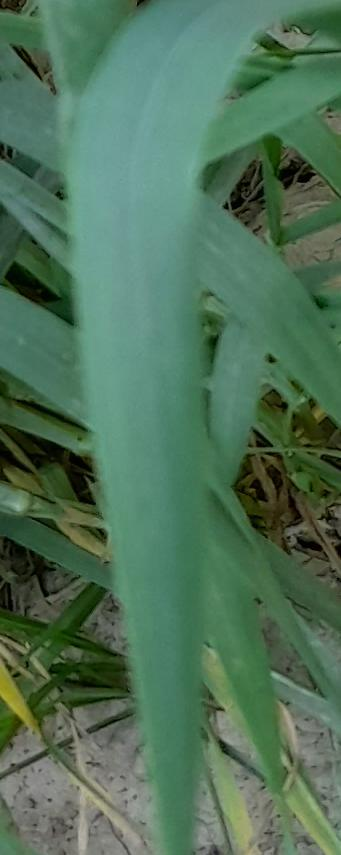Wheat: (102, 367, 206, 703), (80, 65, 193, 350)
